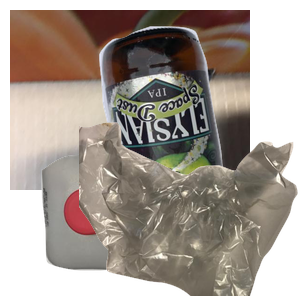cardboard: (10, 10, 250, 190)
glass: (97, 24, 300, 204)
plastic: (39, 149, 203, 300)
trash: (79, 120, 300, 300)
